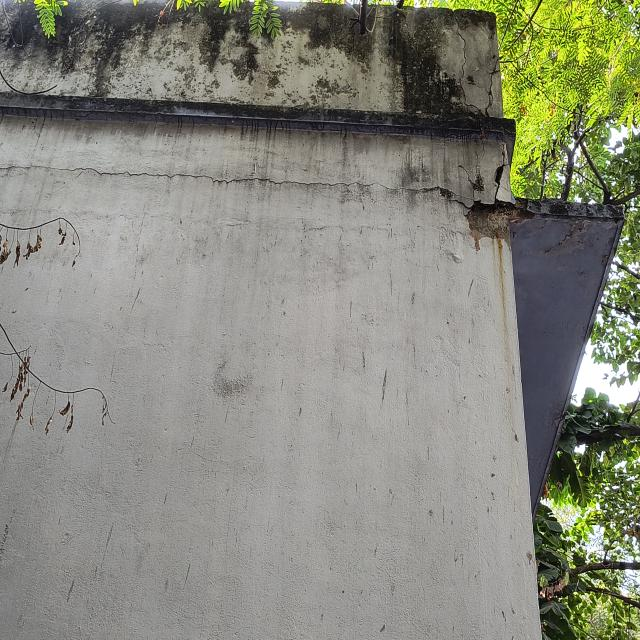Crack: (30, 145, 479, 202), (426, 9, 500, 162), (0, 164, 31, 171)
Moss growth due to damping: (0, 0, 515, 145), (585, 220, 624, 346), (533, 401, 569, 520), (526, 199, 624, 220)
Paint Peeling: (511, 216, 616, 359), (524, 396, 564, 484)
Scaling: (466, 144, 534, 250)
